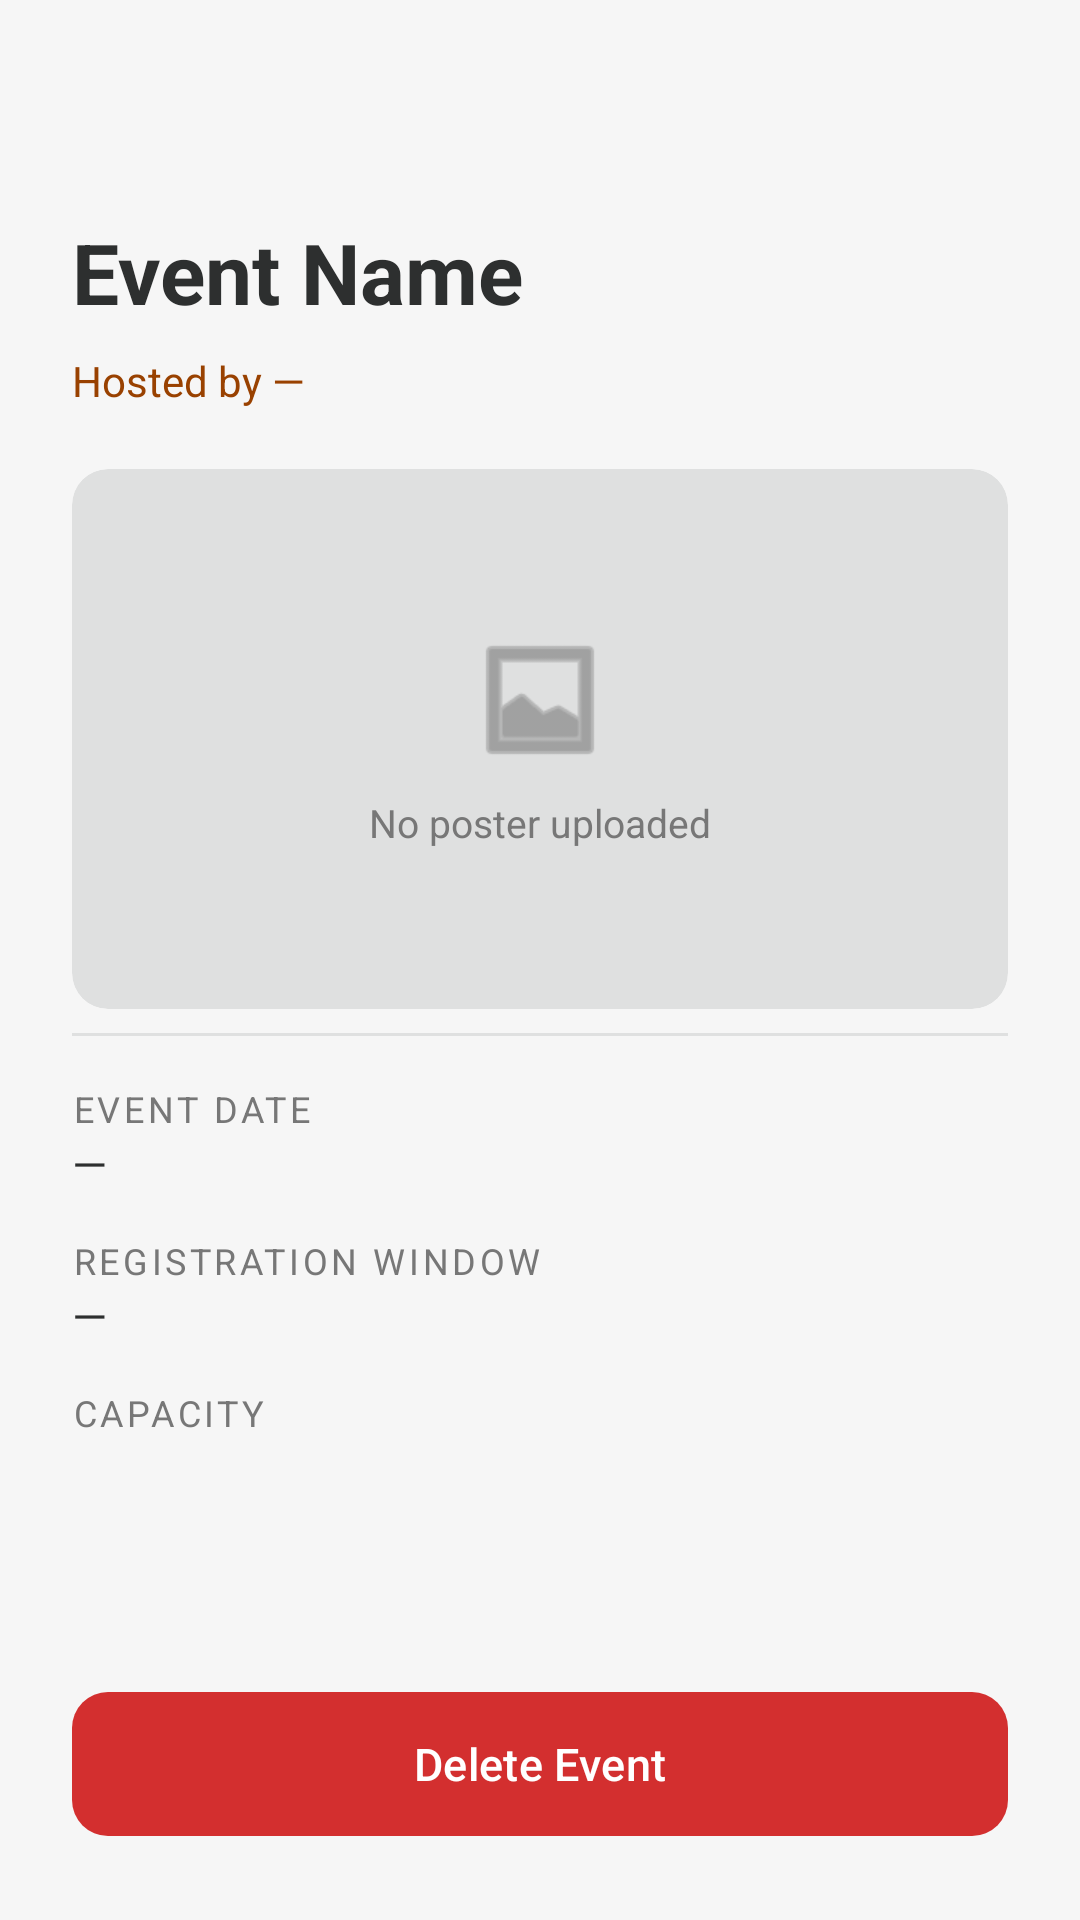

Icons on this 1080 x 1920 Android screen, each with its box as bbox=(x1, y1, x2, y2):
Event poster placeholder: bbox=(486, 646, 594, 754)
